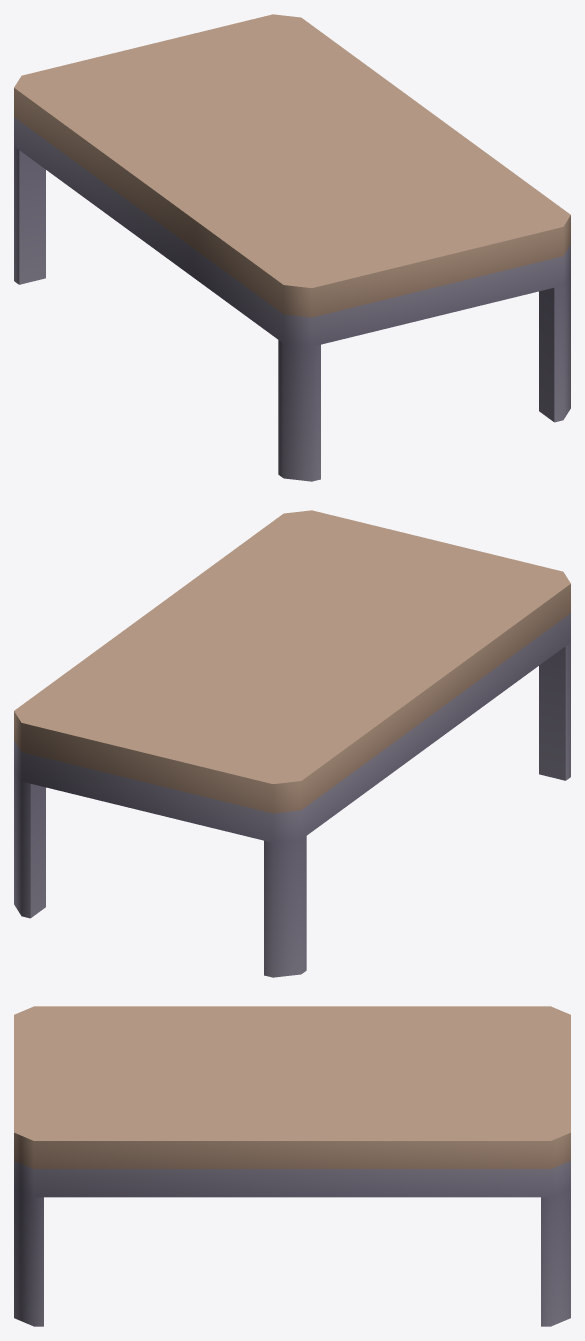
The model's file is table-rectangle-metal-legs-border.glb.
3 views of the same model, one above another, from view 1: azimuth 30°, elevation 25°; view 2: azimuth 150°, elevation 25°; view 3: azimuth 270°, elevation 25° (orthographic). The views are drawn at different scales.
Visible parts, largest first — view 1: table-rectangle-metal-legs-border; view 2: table-rectangle-metal-legs-border; view 3: table-rectangle-metal-legs-border.
Boxes of the visible parts, <box> form: table-rectangle-metal-legs-border: <box>14,14,570,481</box>; table-rectangle-metal-legs-border: <box>14,510,570,977</box>; table-rectangle-metal-legs-border: <box>14,1006,570,1326</box>.
Bounding box in the file's own units: 0.8 × 0.5146 × 1.4.
